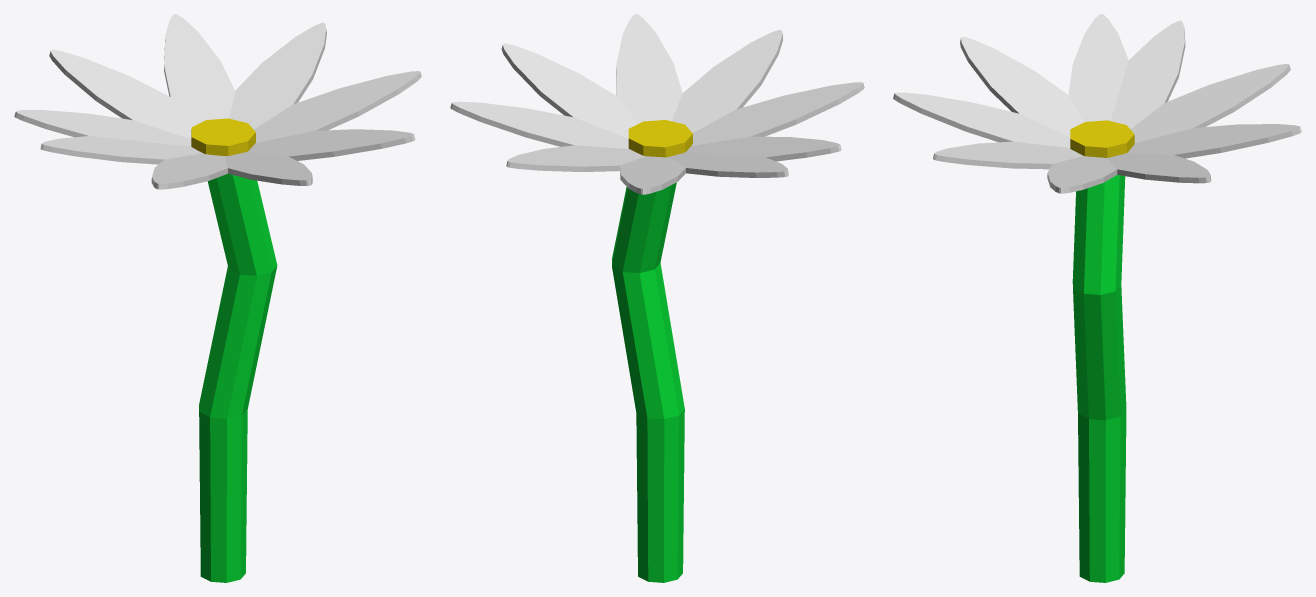
File: Flower.fbx
3 views of the same model, side by side, from view 1: azimuth 30°, elevation 25°; view 2: azimuth 150°, elevation 25°; view 3: azimuth 270°, elevation 25° (orthographic).
Parts seen in each view (by area): view 1: Circle.001; view 2: Circle.001; view 3: Circle.001.
Boxes of the visible parts, box(x1,y1,x2,y2) form: Circle.001: box(14, 14, 421, 582); Circle.001: box(450, 14, 864, 582); Circle.001: box(893, 14, 1301, 582).
Bounding box in the file's own units: 363 × 457 × 358.
